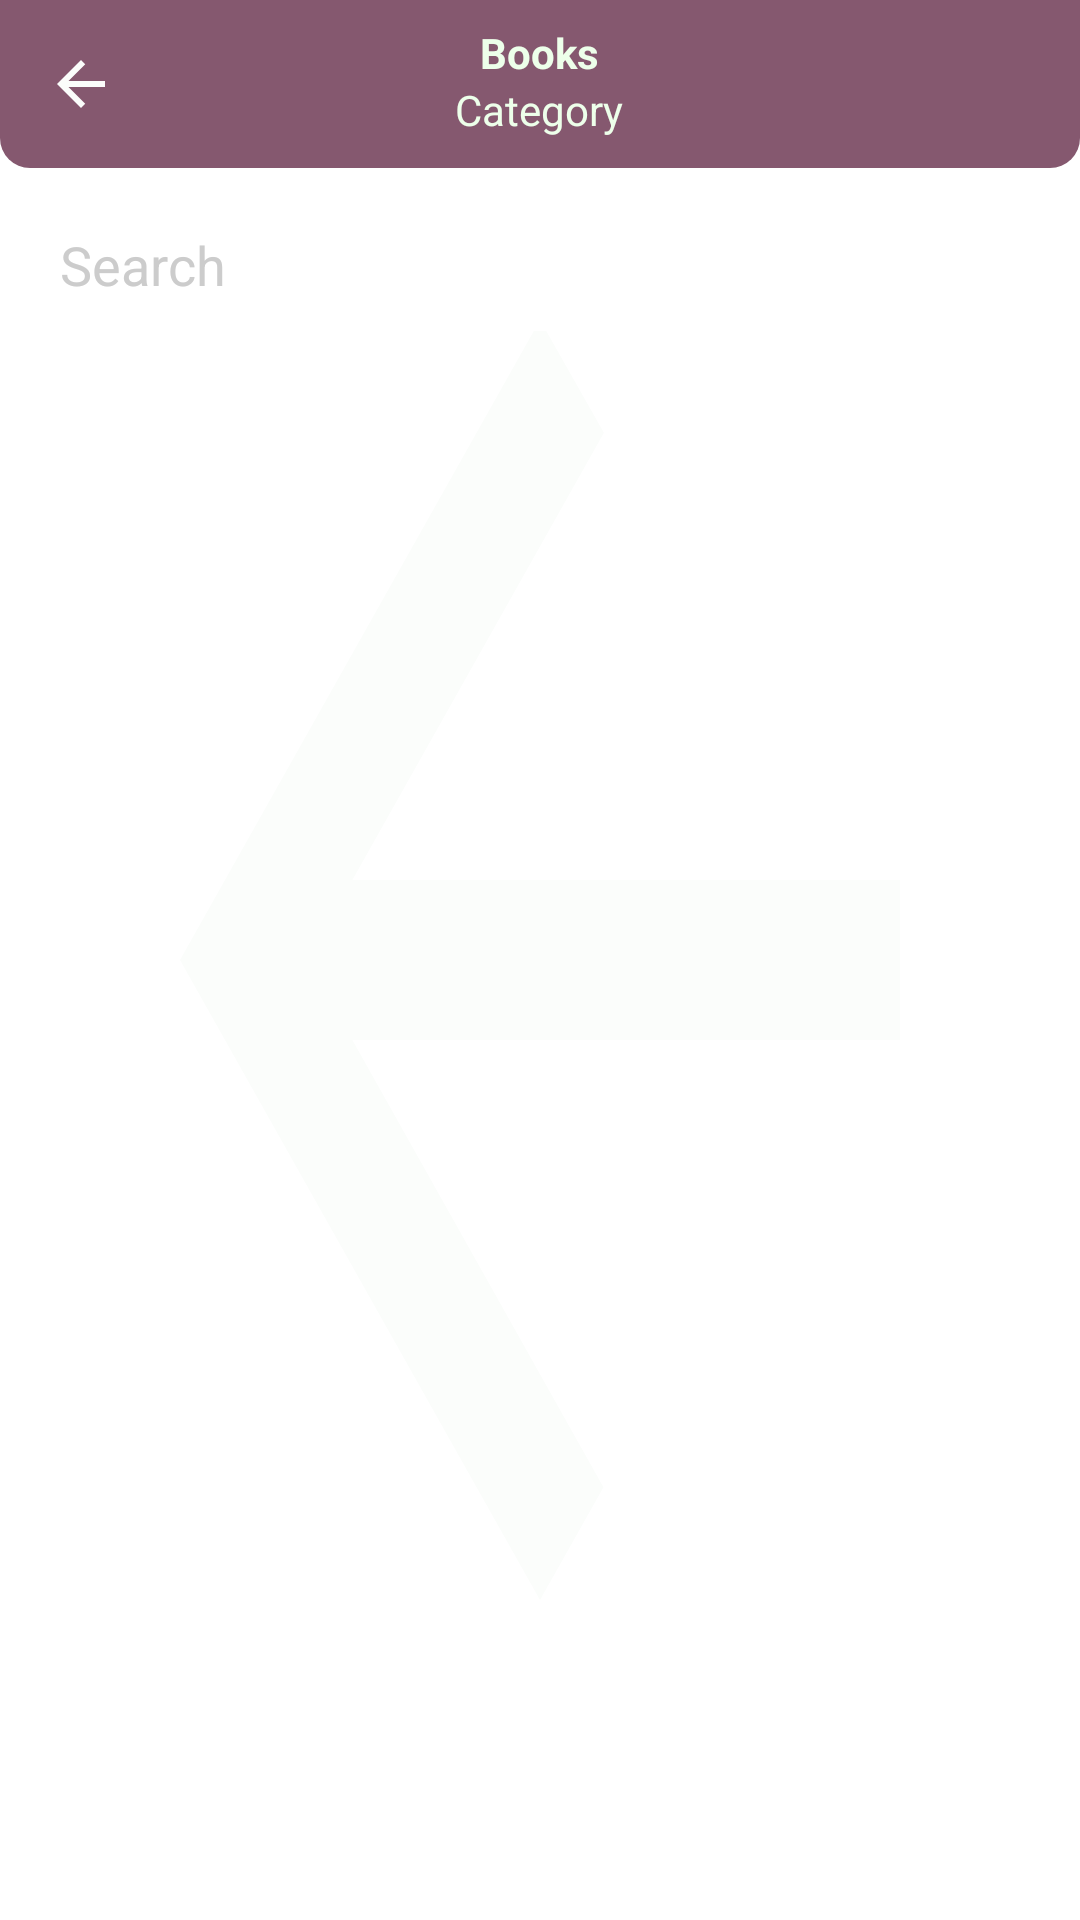

Named icons in this screenshot (1080x1920) and their centers, (x,y):
arrowback: (81,84)
